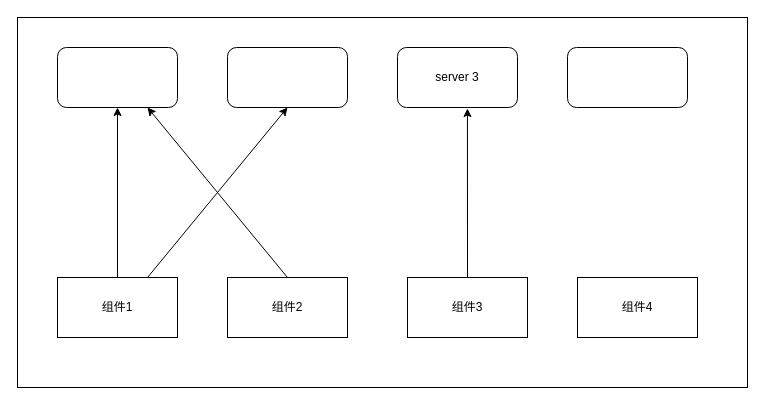
Image size: 765x405. Some labels were removed from this diagram. The shapes that lost their labels are listed below. From the top down, each one's centre as x and y in pixels, then its label:
At pixel 117 77: "server 1".
At pixel 287 77: "server 2".
At pixel 627 77: "server 4".
